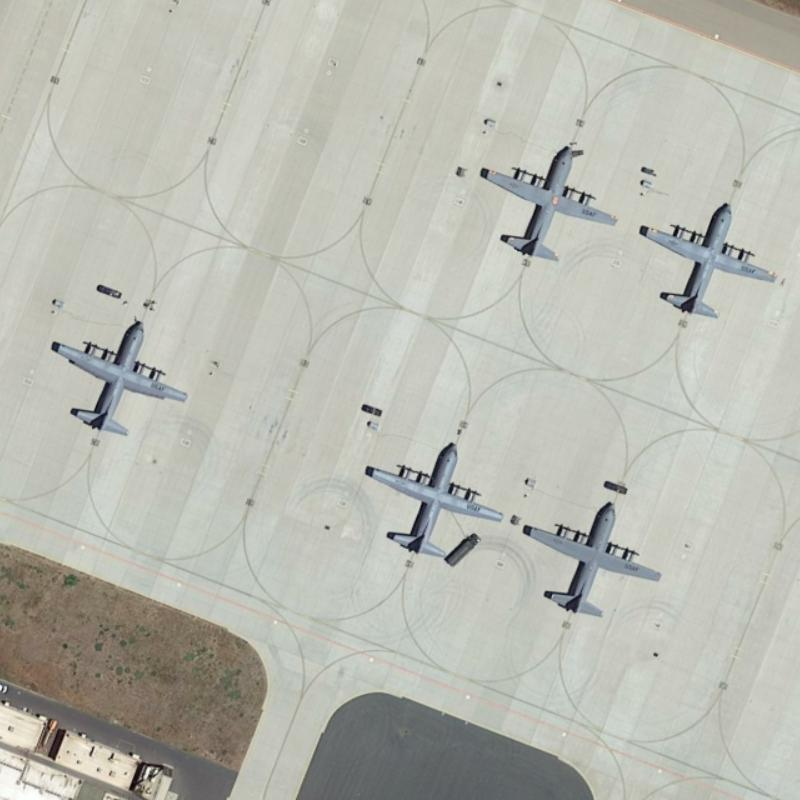A2: (635, 193, 783, 323), (362, 432, 505, 565), (42, 316, 190, 444), (521, 494, 669, 621), (478, 140, 620, 271)
